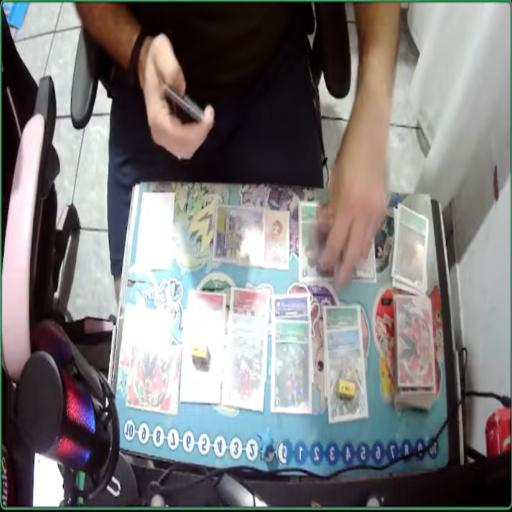card: (223, 319, 268, 413), (271, 319, 311, 418), (326, 325, 362, 427), (180, 314, 221, 402), (215, 204, 264, 264), (299, 200, 331, 283), (261, 208, 291, 269), (230, 289, 268, 328), (354, 230, 376, 284), (189, 290, 224, 322), (274, 295, 312, 324), (324, 302, 362, 327)
